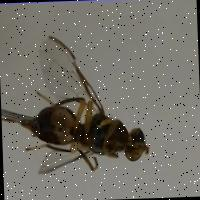Oriental-fruit-fly: (0, 17, 161, 186)
